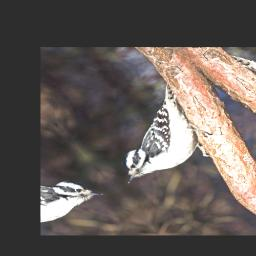Woodpecker: (72, 84, 230, 193)
